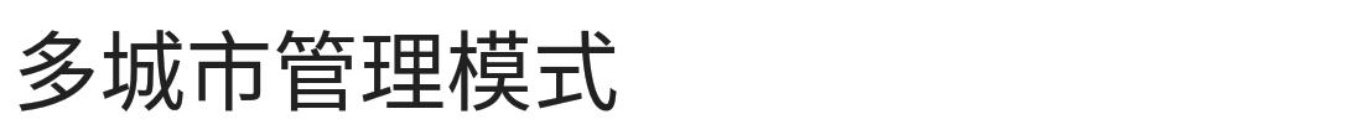TextView: (1, 1, 1369, 139)
